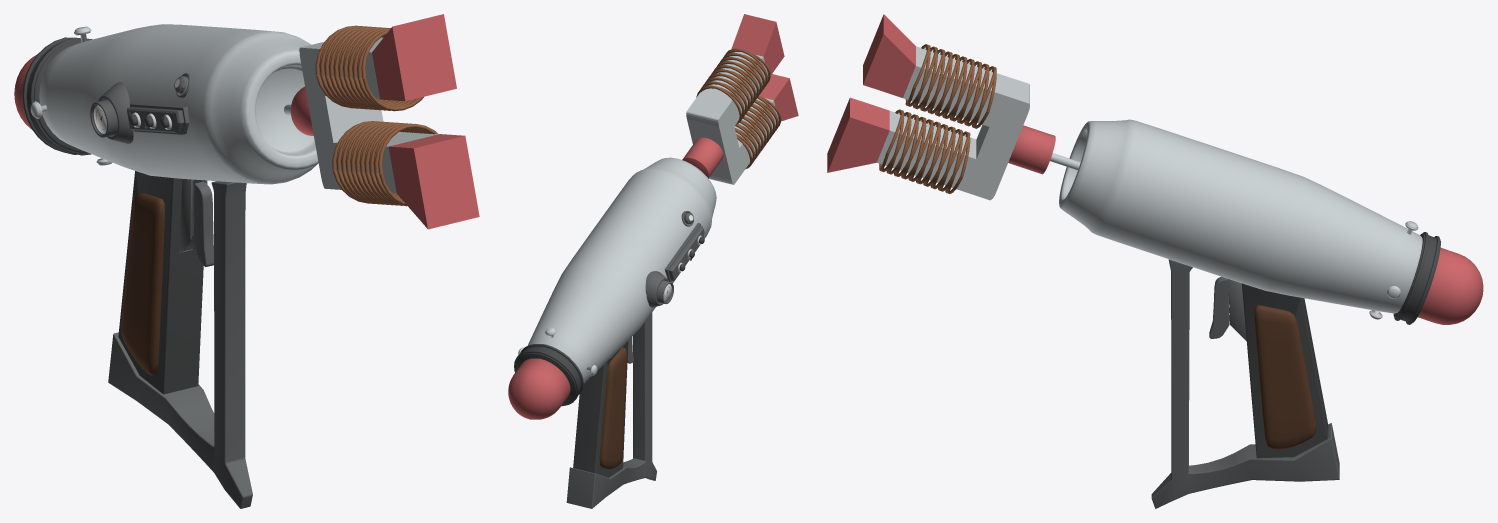
The model's file is PistolaN.fbx.
The picture shows the model from 3 angles, left to right: view 1: azimuth 30°, elevation 25°; view 2: azimuth 150°, elevation 25°; view 3: azimuth 270°, elevation 25°; orthographic projection. The views are drawn at different scales.
Visible parts, largest first — view 1: Pistola N; view 2: Pistola N; view 3: Pistola N.
Part boxes in pixels (x1,y1,x2,y2): Pistola N: (14,14,479,508); Pistola N: (508,14,798,508); Pistola N: (827,14,1483,508).
Size of the model in its own units: 80.07 by 307 by 378.
